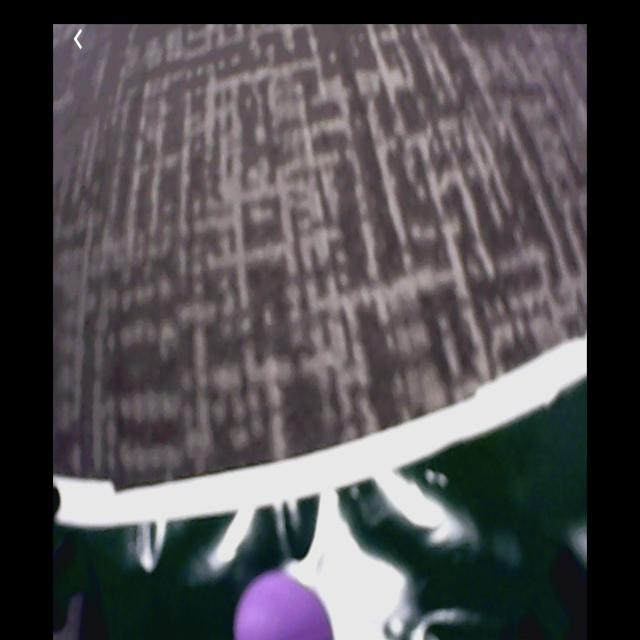ball: (234, 573, 335, 640)
